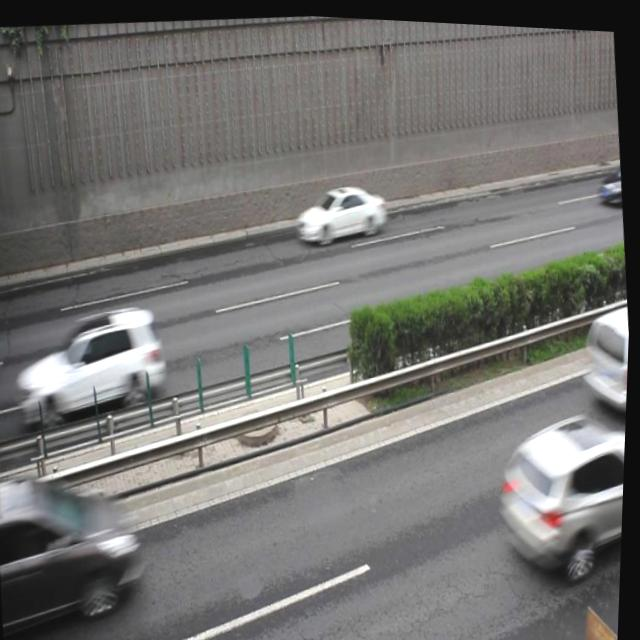car: (492, 401, 629, 579), (15, 297, 175, 432), (294, 172, 390, 245), (593, 150, 625, 204)
truck: (0, 466, 151, 640), (578, 293, 632, 407)
